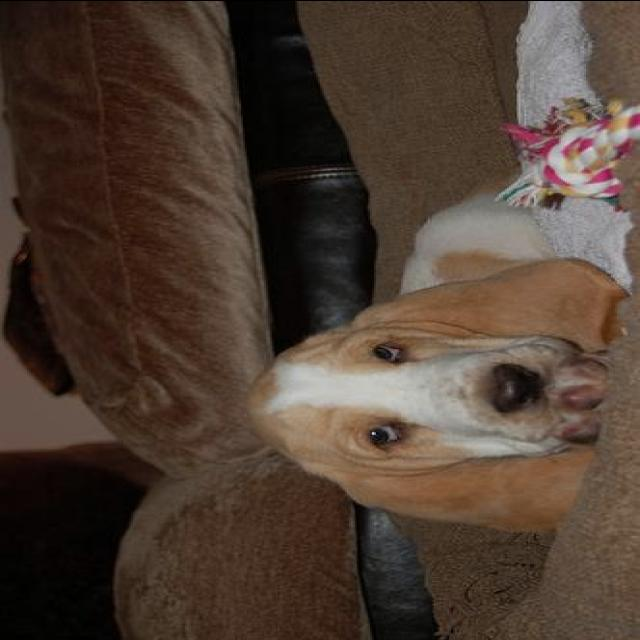basset: (237, 168, 623, 530)
